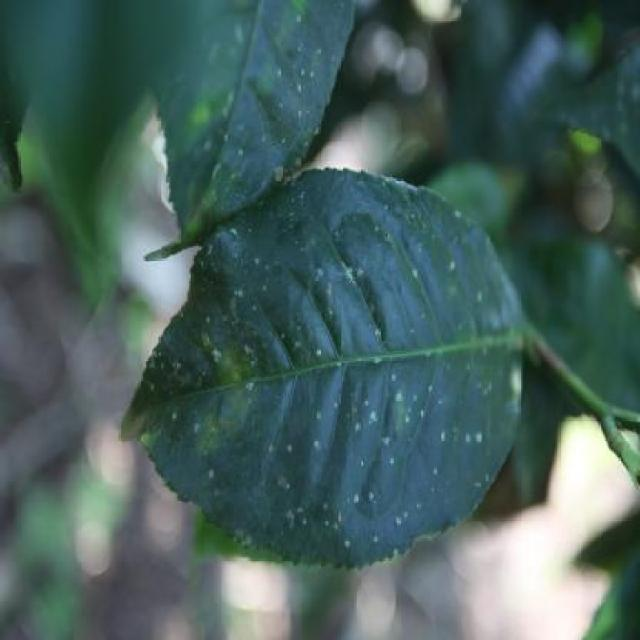White spot of tea: (112, 168, 531, 566)
